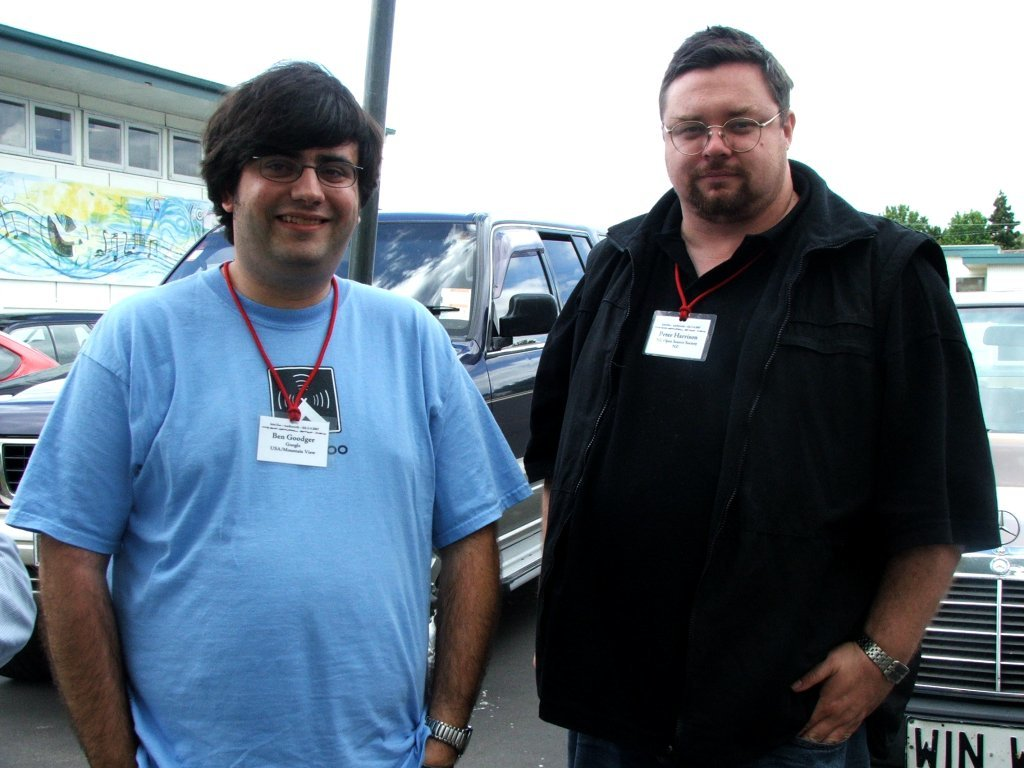Car: (0, 202, 1022, 767)
